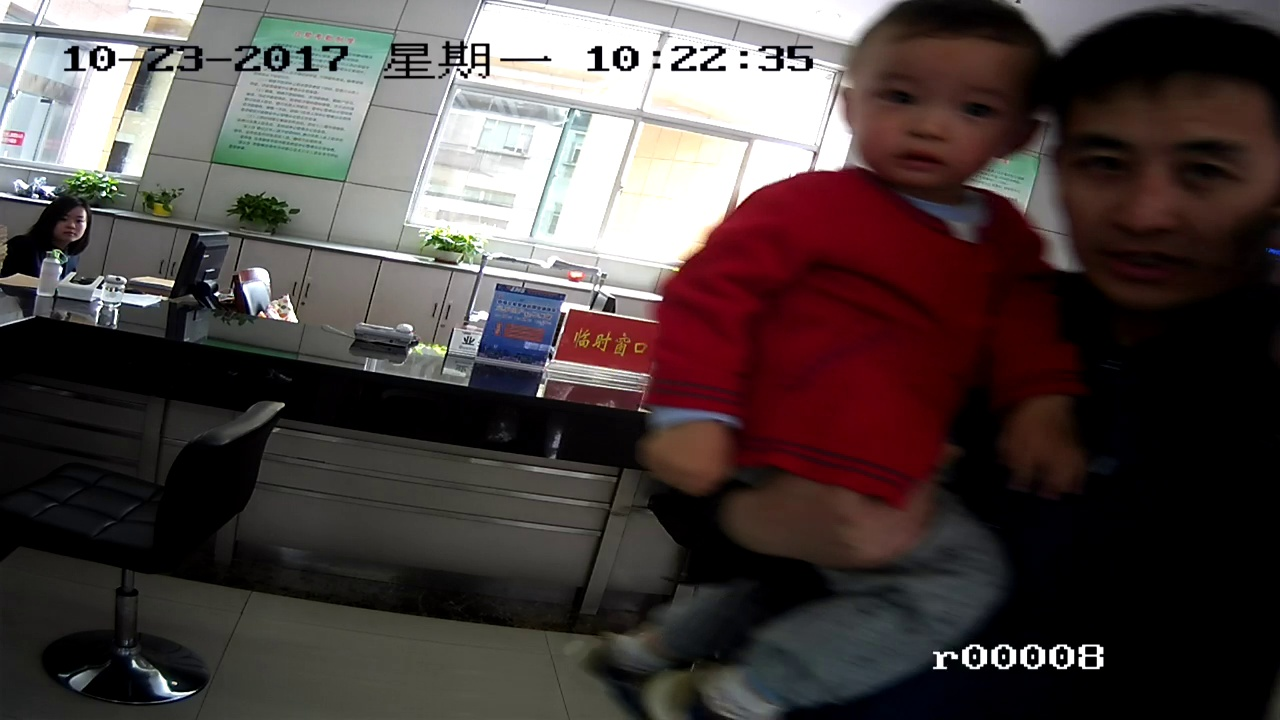billboard: (238, 36, 350, 174)
chair: (28, 399, 309, 704)
person: (1036, 13, 1280, 381), (842, 1, 1022, 264), (40, 199, 100, 255)
pot: (235, 186, 291, 233), (421, 226, 477, 268)
